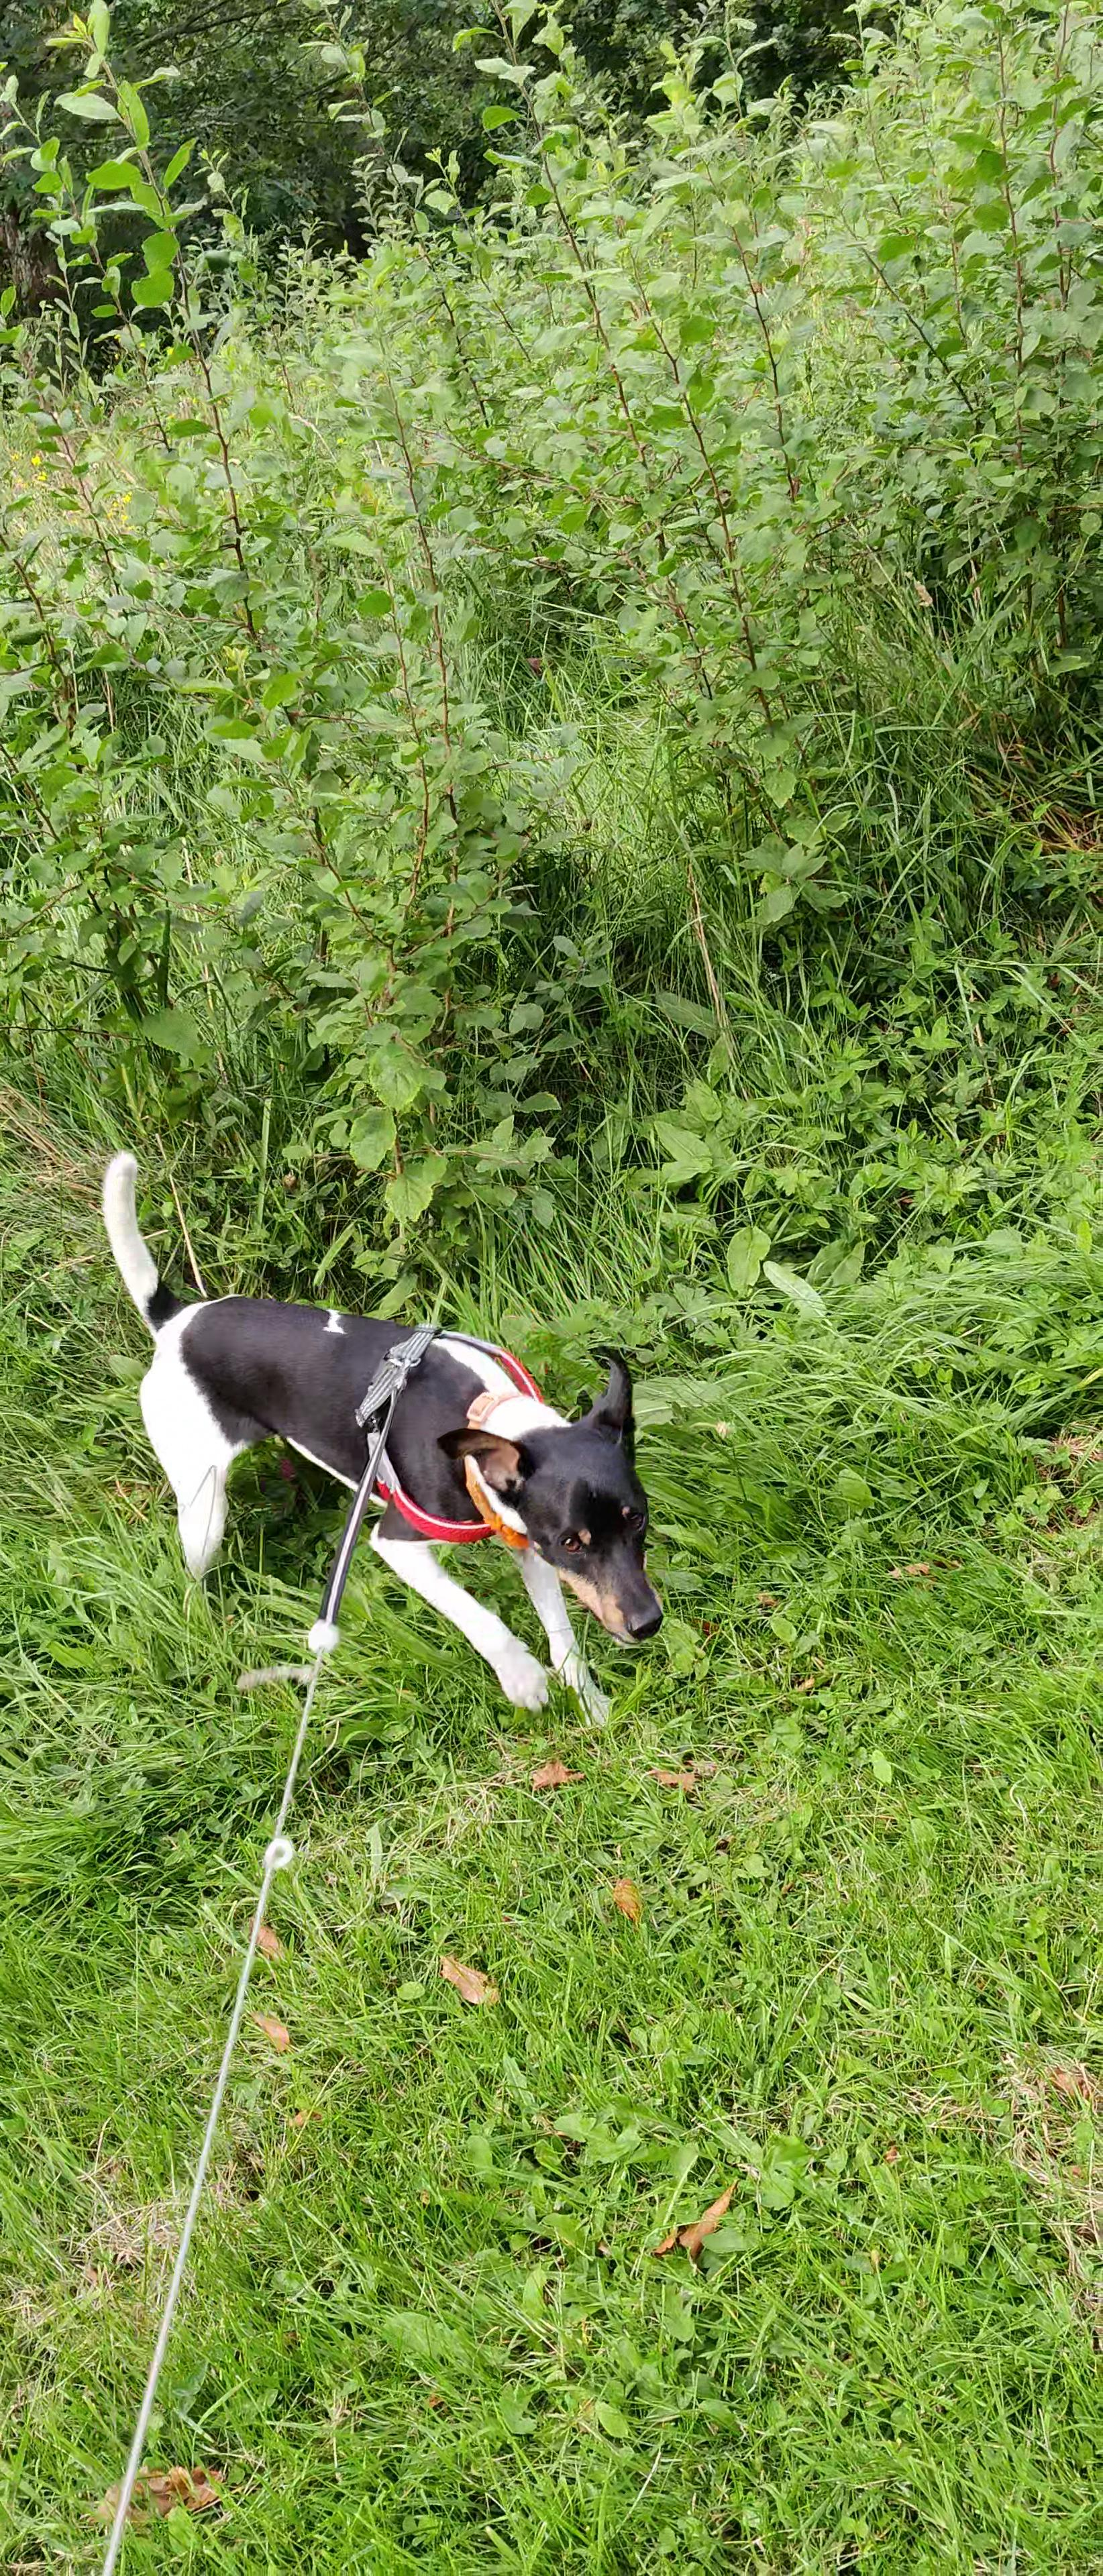Dog: (81, 1129, 689, 1741)
